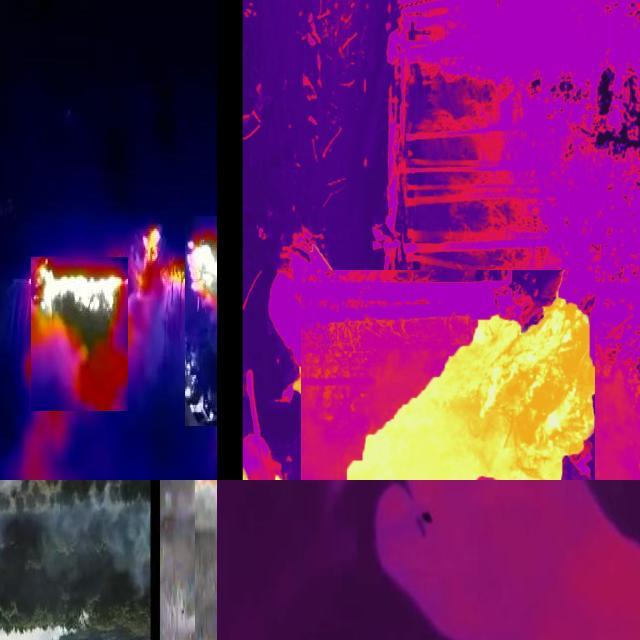fire: (301, 270, 595, 481), (31, 257, 128, 411), (132, 222, 186, 368), (243, 466, 529, 481)
